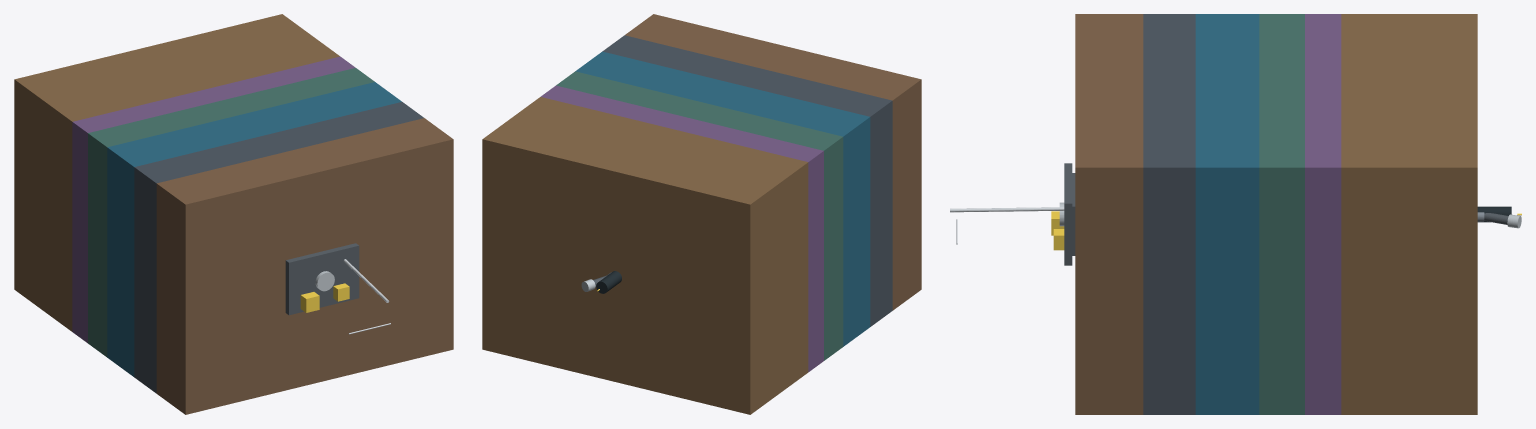
File: oil_well_3d_model_v2.glb
The picture shows the model from 3 angles, left to right: view 1: azimuth 30°, elevation 25°; view 2: azimuth 150°, elevation 25°; view 3: azimuth 270°, elevation 25°; orthographic projection. The views are drawn at different scales.
Visible parts, largest first — view 1: Layer 1, Reservoir / Layer 6, Layer 3, Layer 2, Layer 4, Layer 5, Rig Floor; view 2: Reservoir / Layer 6, Layer 1, Layer 3, Layer 2, Layer 4, Layer 5; view 3: Reservoir / Layer 6, Layer 1, Layer 3, Layer 2, Layer 4, Layer 5, Rig Floor.
Part boxes in pixels (<box>): Layer 1: <box>156,118,453,414</box>; Reservoir / Layer 6: <box>14,14,339,331</box>; Layer 3: <box>107,82,401,376</box>; Layer 2: <box>134,102,423,393</box>; Layer 4: <box>88,68,374,357</box>; Layer 5: <box>72,56,355,343</box>; Rig Floor: <box>285,243,359,315</box>; Reservoir / Layer 6: <box>482,97,808,414</box>; Layer 1: <box>625,14,921,310</box>; Layer 3: <box>575,51,870,346</box>; Layer 2: <box>602,35,892,326</box>; Layer 4: <box>556,71,843,360</box>; Layer 5: <box>541,85,823,372</box>; Reservoir / Layer 6: <box>1341,14,1477,414</box>; Layer 1: <box>1075,14,1143,414</box>; Layer 3: <box>1195,14,1259,414</box>; Layer 2: <box>1143,14,1195,414</box>; Layer 4: <box>1259,14,1304,414</box>; Layer 5: <box>1305,14,1341,414</box>; Rig Floor: <box>1064,163,1072,265</box>.
Bounding box in the file's own units: 16 × 12 × 25.16.
